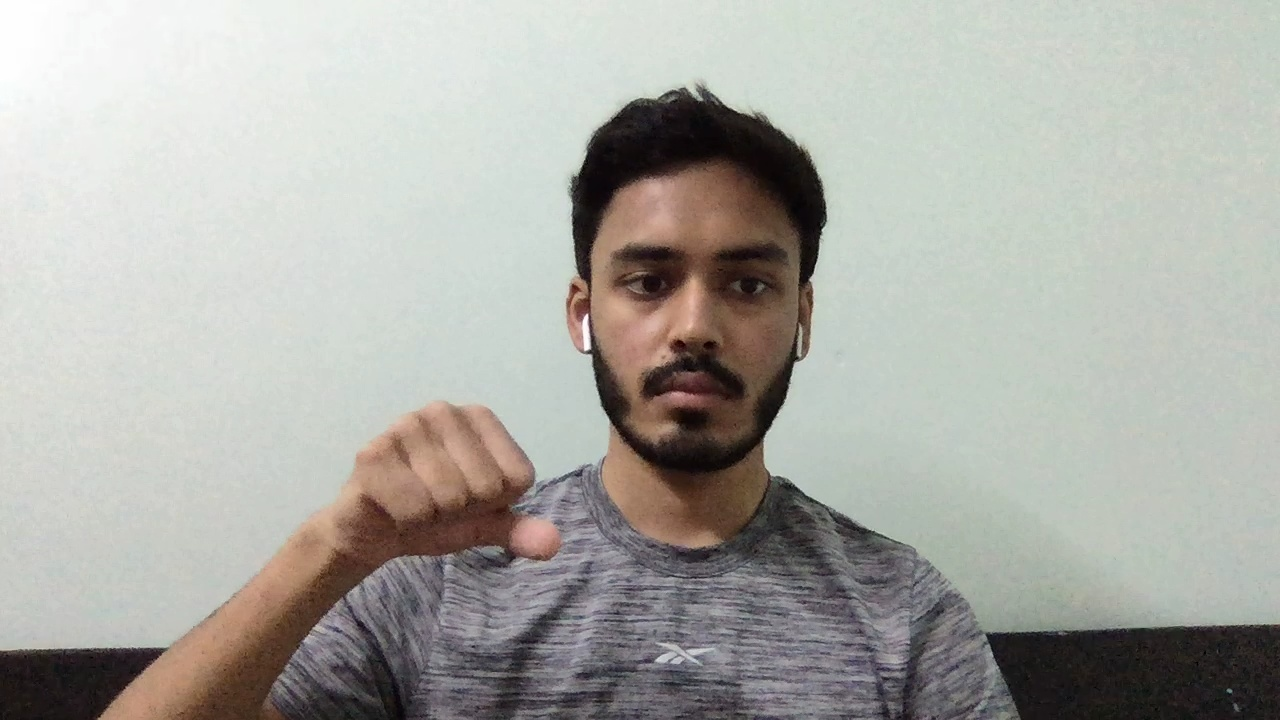Yes: (324, 385, 576, 589)
